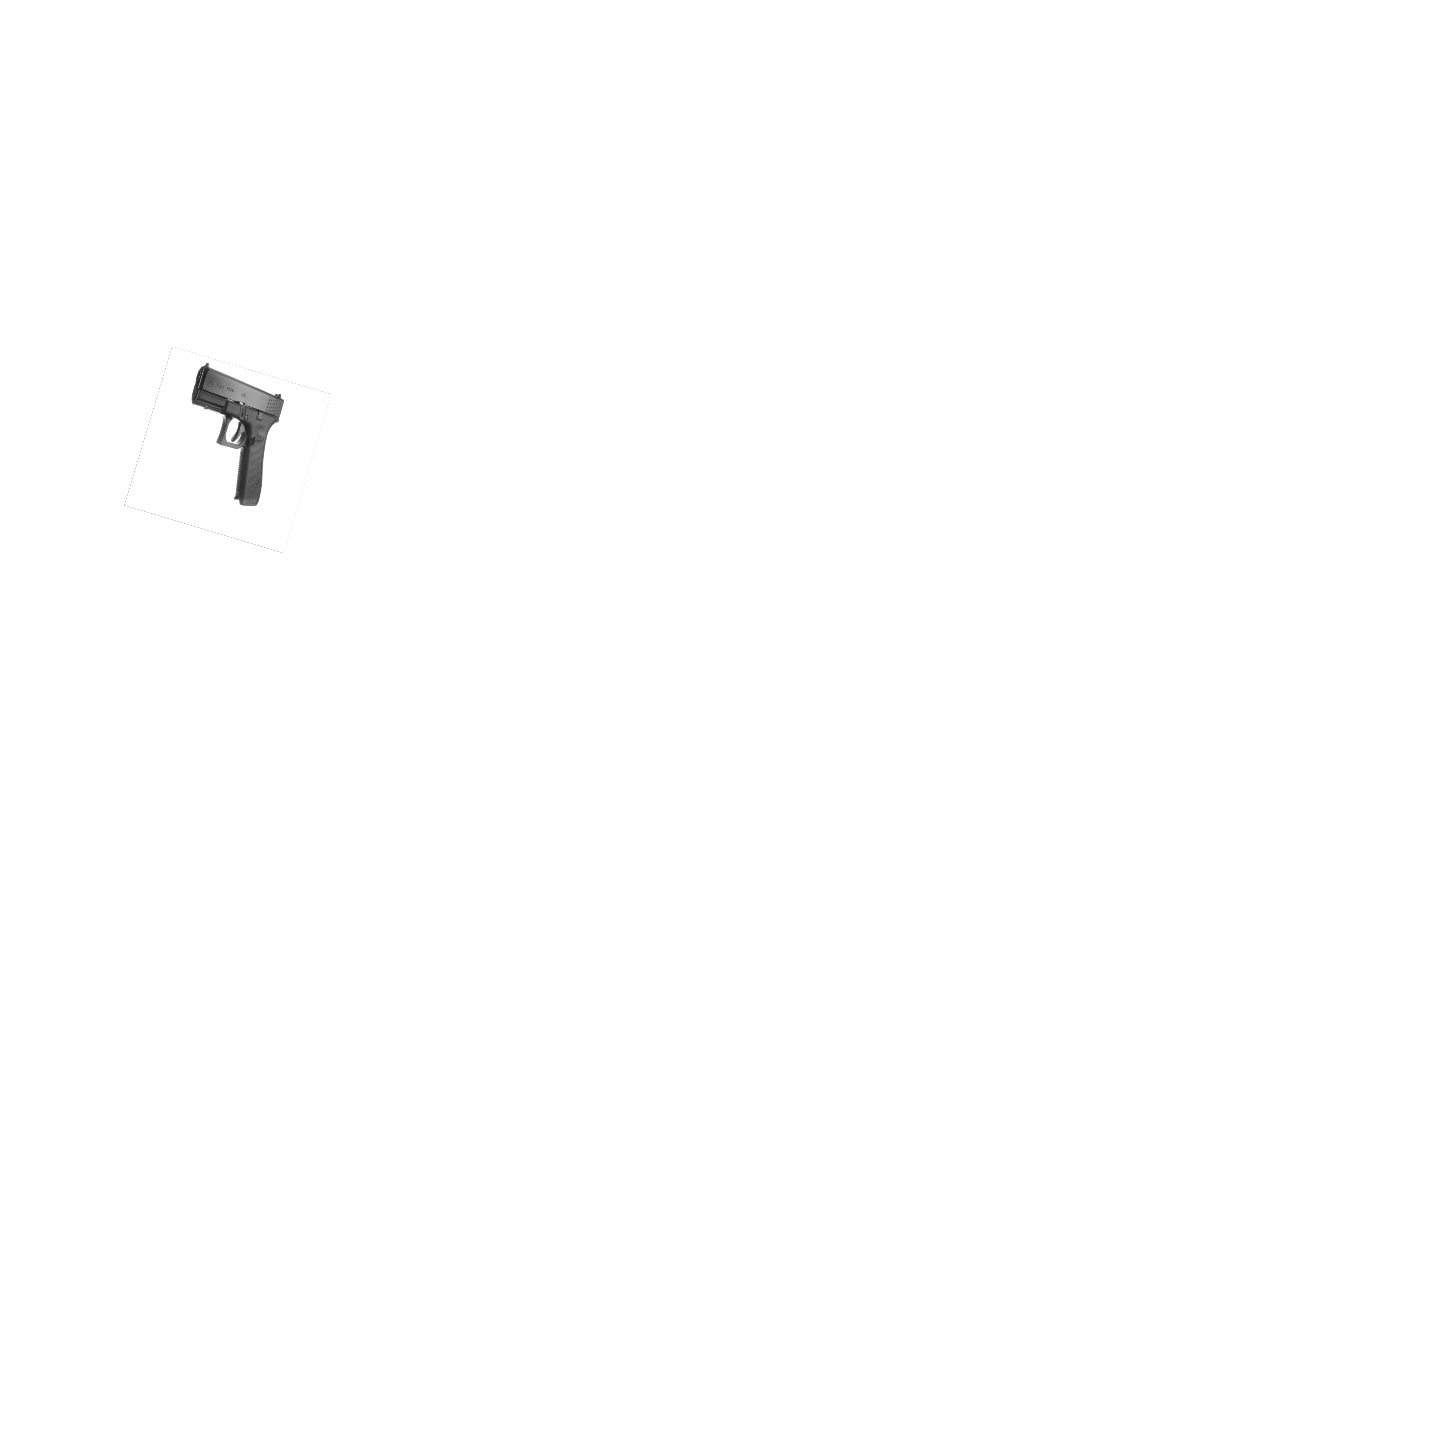gun: (188, 359, 286, 516)
